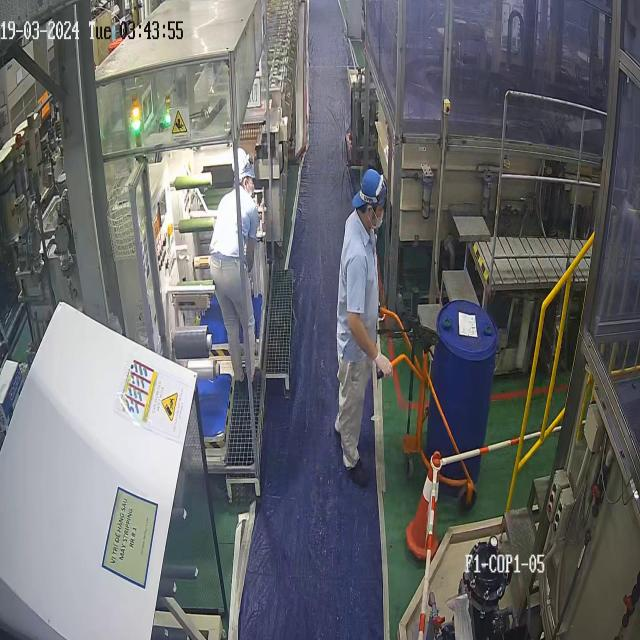Person: (334, 168, 393, 487), (209, 147, 259, 385)
